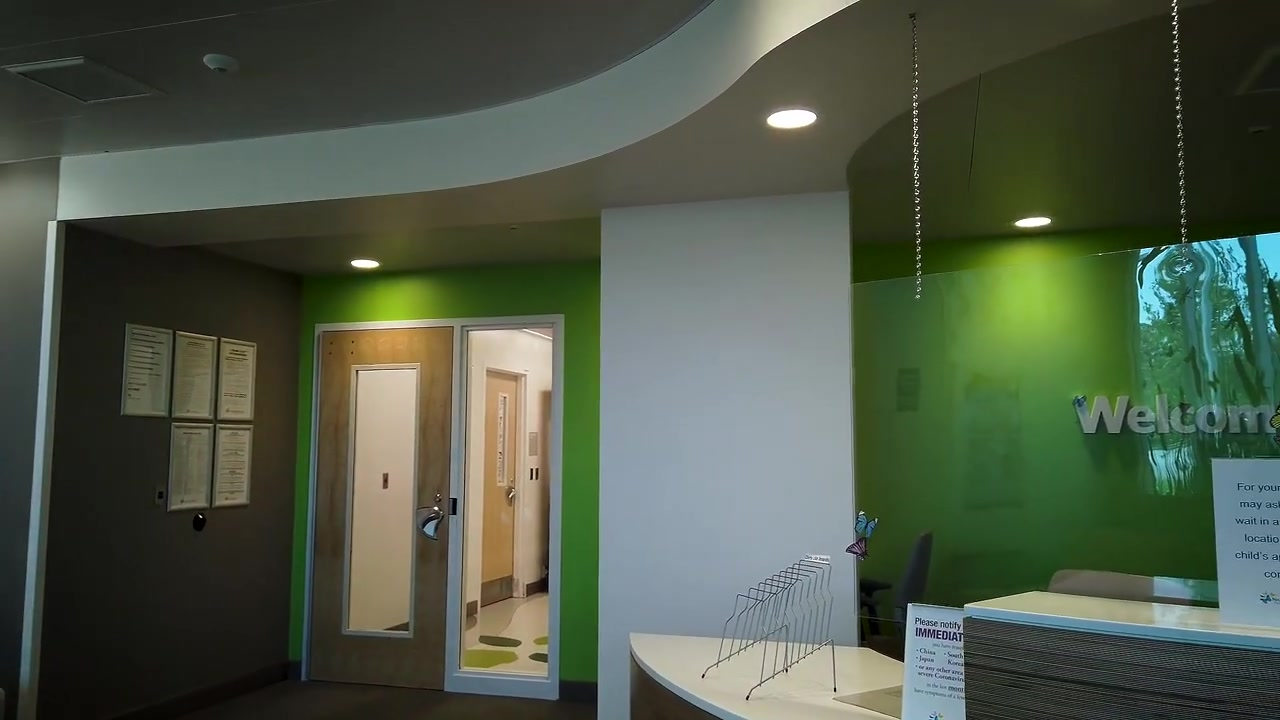chair: (857, 527, 940, 663), (1036, 573, 1189, 597)
counter: (610, 601, 1269, 720)
countertop: (626, 633, 931, 720), (964, 592, 1280, 652)
door_handle: (421, 488, 446, 541), (505, 475, 520, 506)
